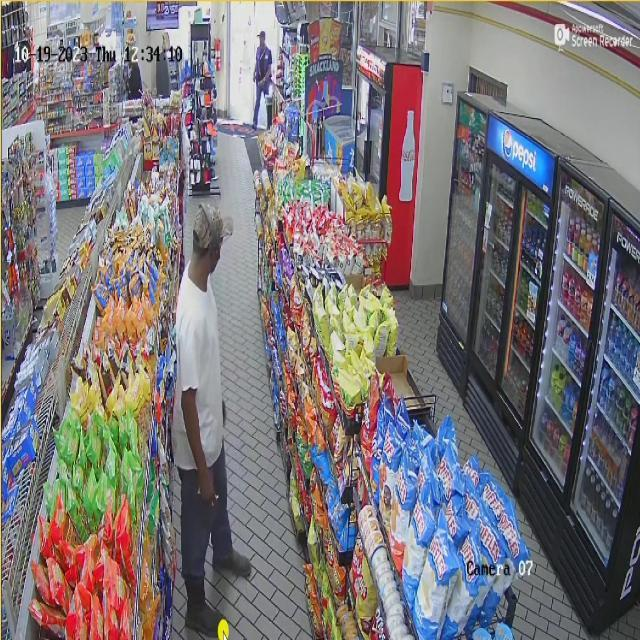Normal: (175, 177, 255, 640), (247, 16, 279, 134)
